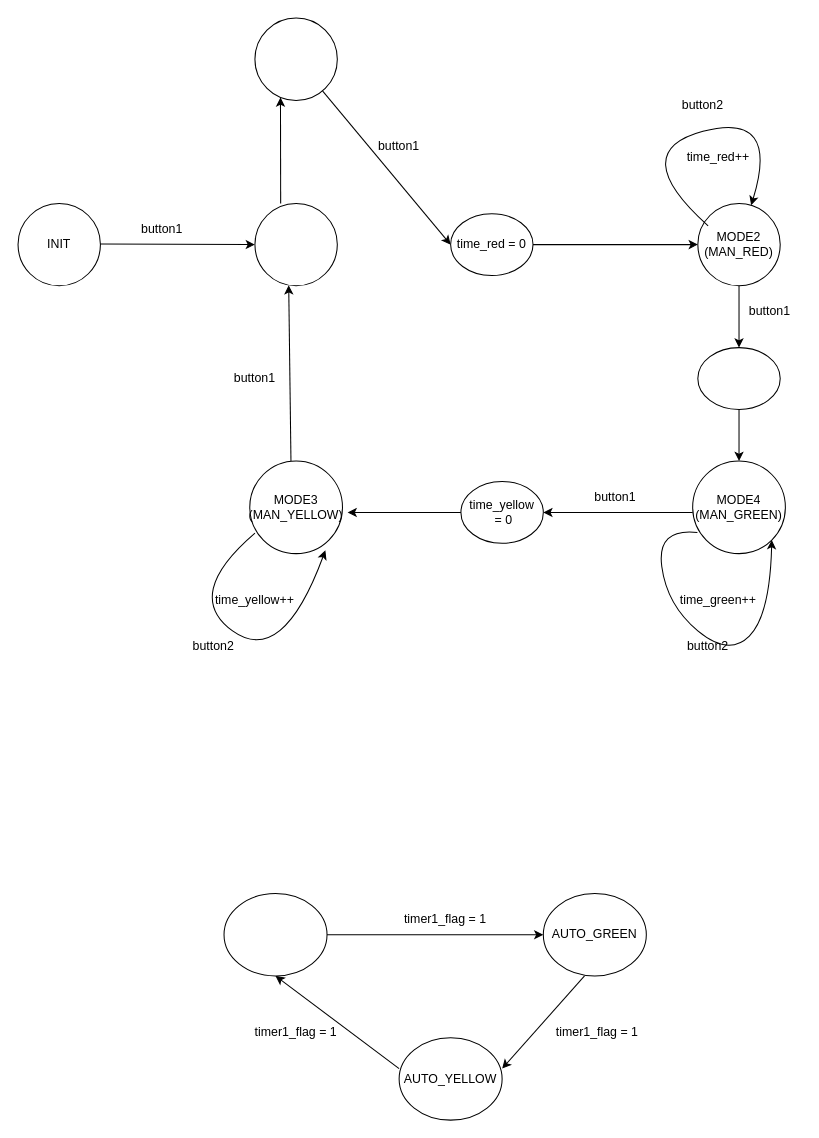
Image size: 819x1138. Some labels were removed from this diagram. The box of each missing label's shape, as (x1, y1, x2, y2) in pixels:
AUTO_RED: (223, 892, 327, 976)
DISPLAY Traffic and 7sement: (254, 17, 337, 100)
MODE1 (NORMAL): (254, 202, 337, 286)
time_green = 0: (697, 347, 780, 409)
